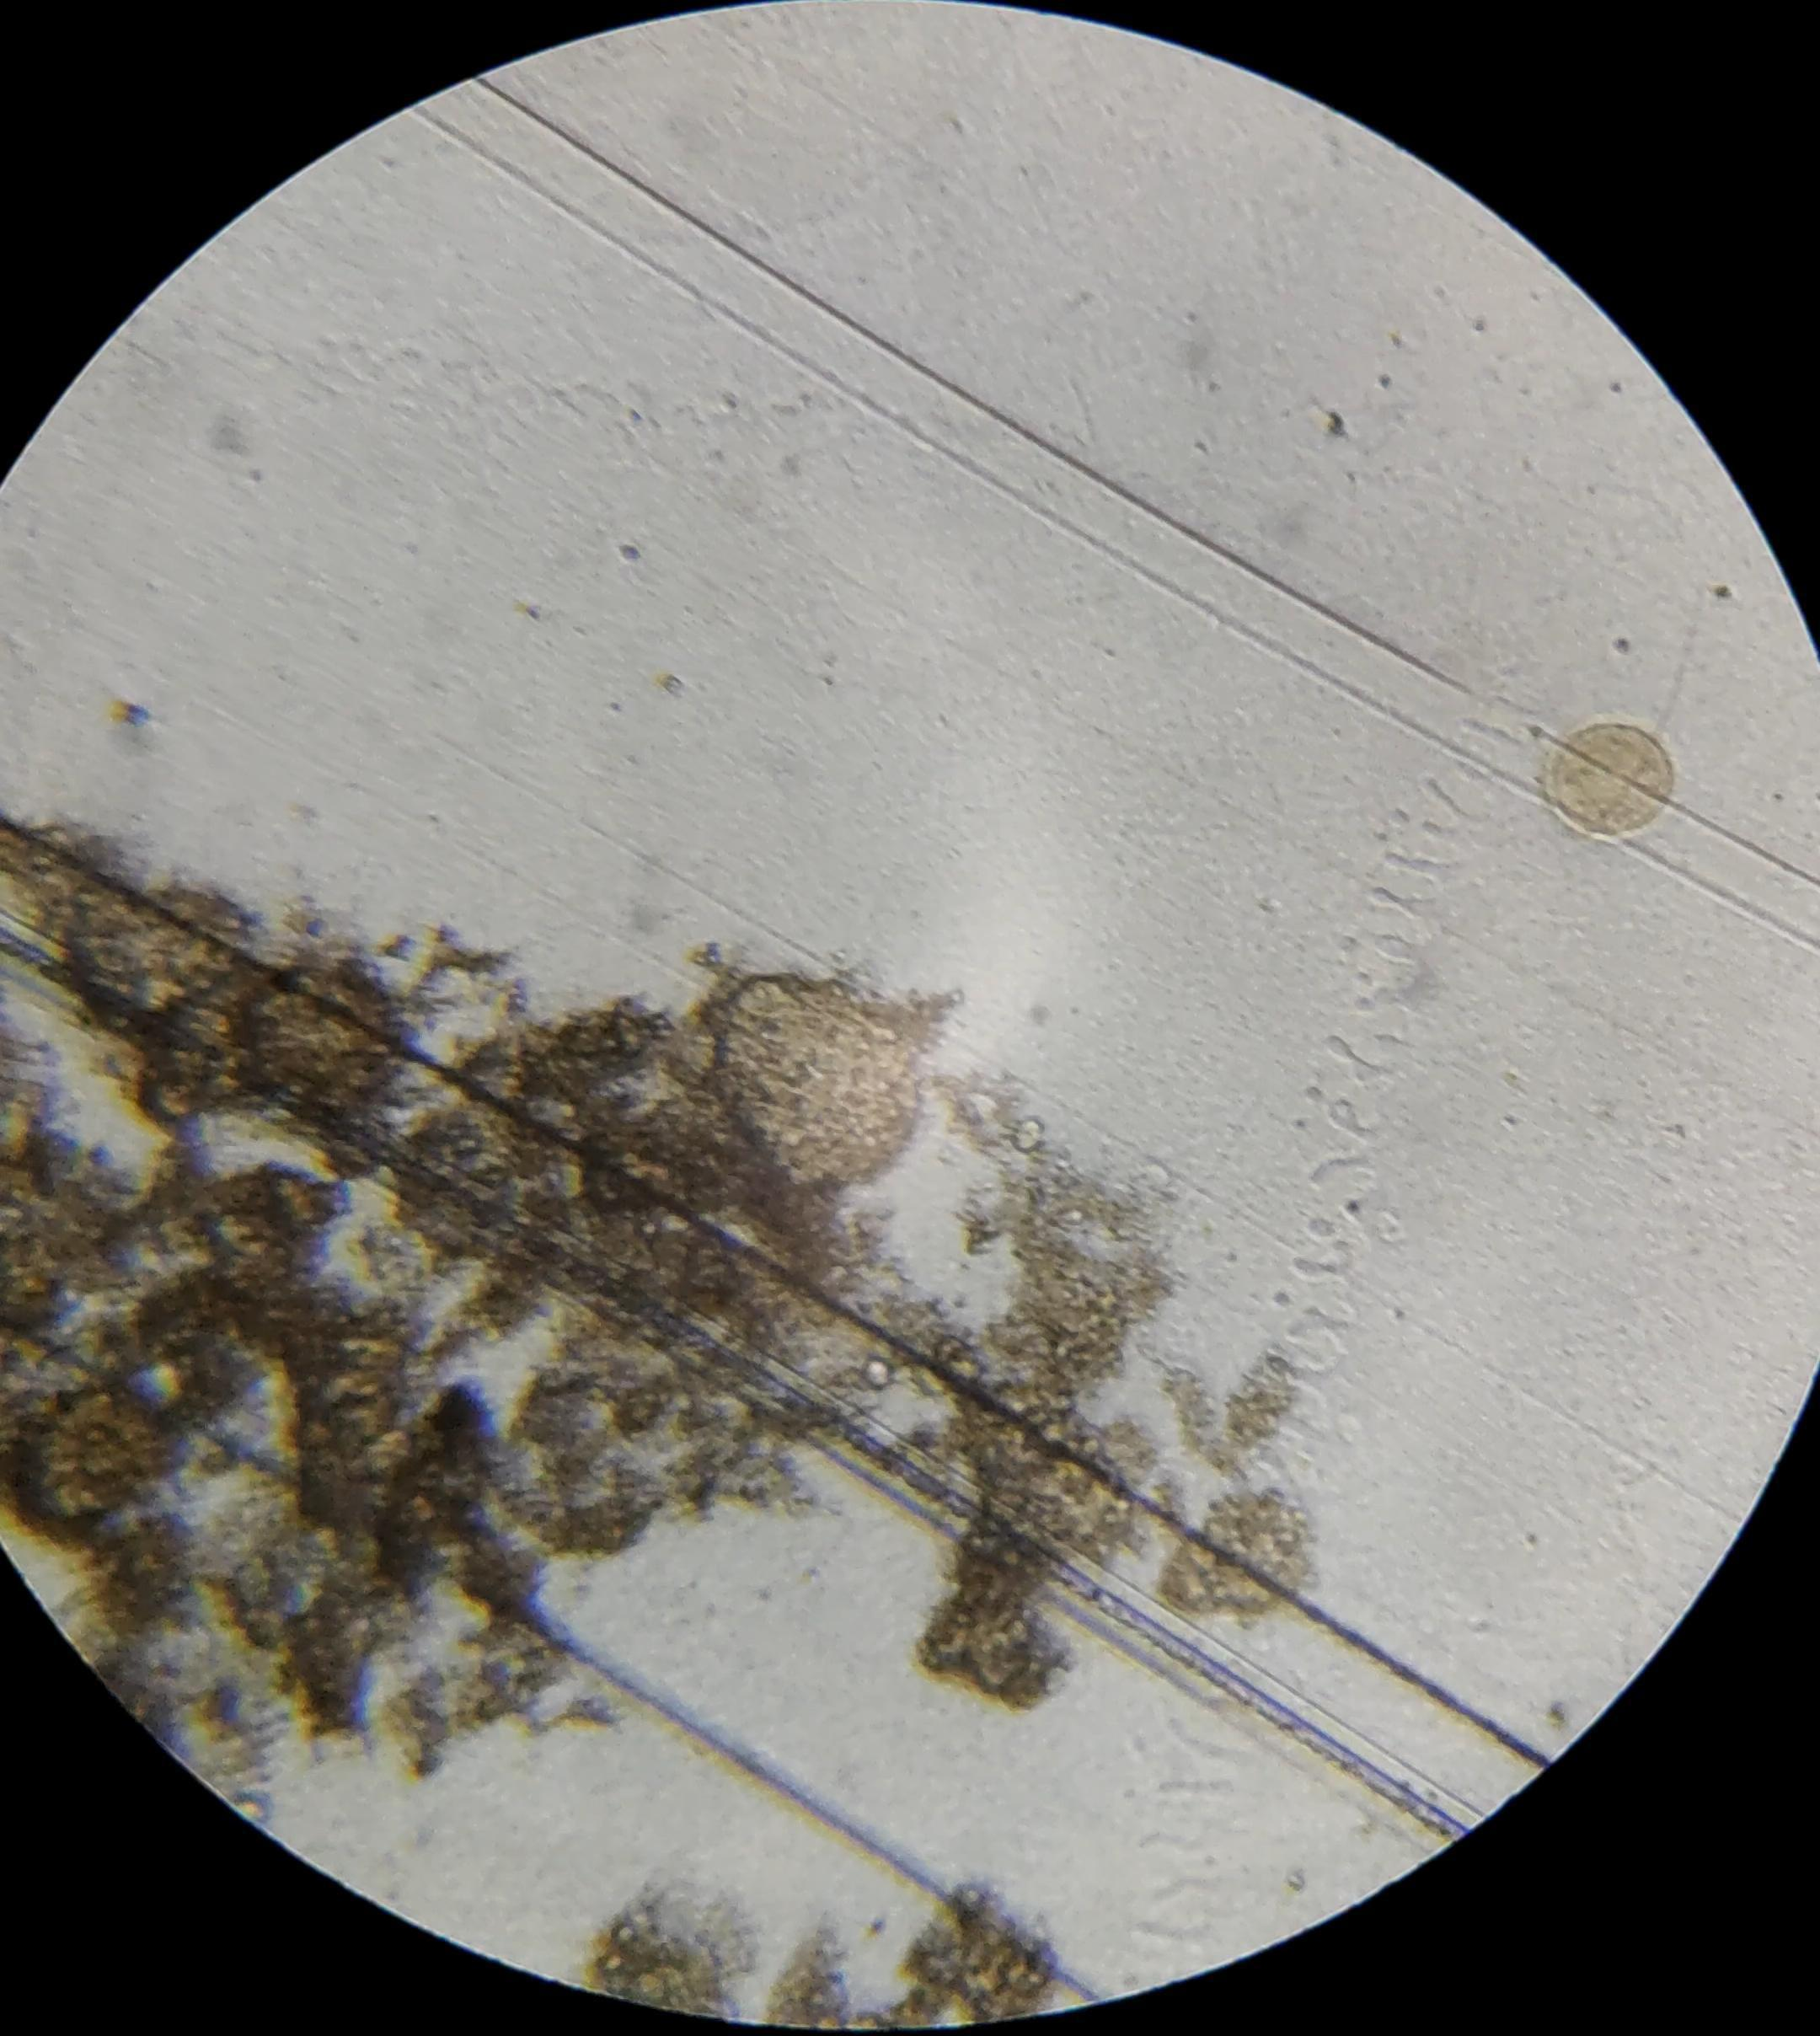Arcella: (1555, 724, 1672, 833)
